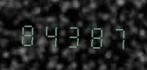eight: (84, 20, 105, 51), (18, 18, 39, 48)
four: (40, 18, 61, 49)
seven: (106, 21, 127, 51)
three: (62, 19, 83, 50)
